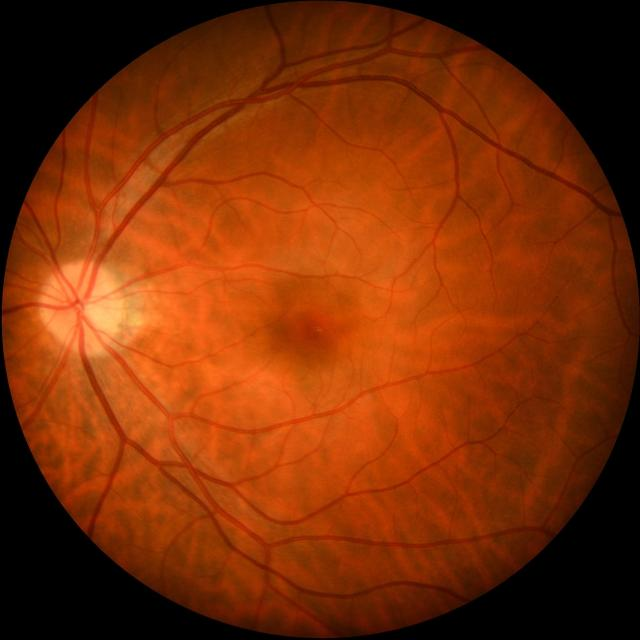OC: (69, 292, 102, 321)
OD: (43, 259, 124, 353)
